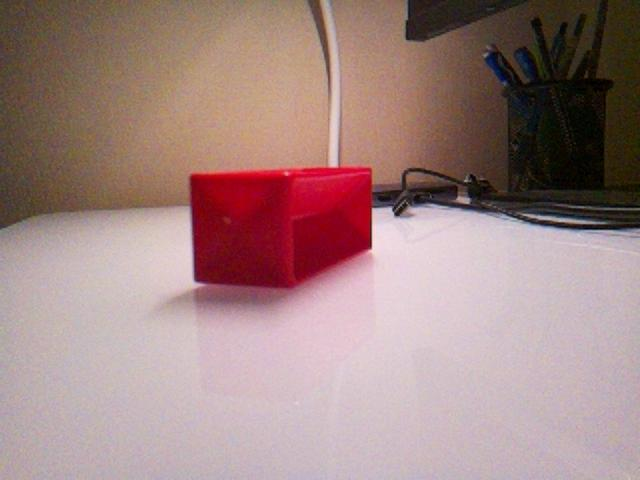red: (188, 165, 374, 289)
